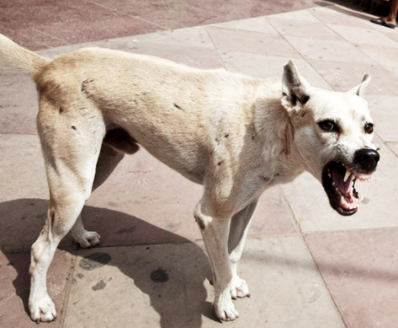dog: (17, 49, 379, 322)
